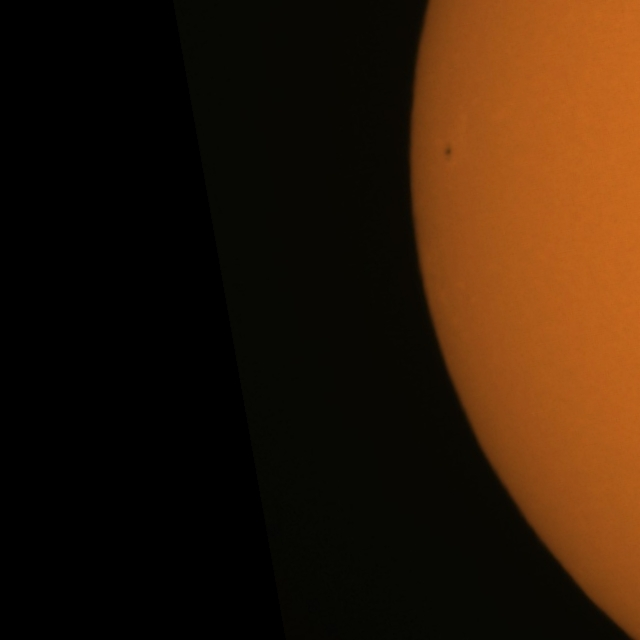sunspot: (442, 144, 454, 162)
